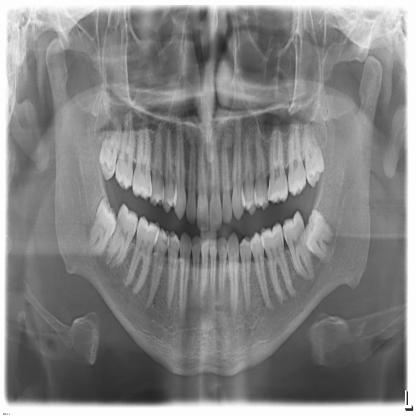canine: (232, 120, 247, 219), (174, 119, 187, 222), (227, 232, 239, 317), (179, 231, 191, 315)
cental incisor: (210, 138, 223, 229), (201, 234, 210, 306), (209, 234, 217, 298)
lareral incisor: (220, 137, 233, 223), (197, 142, 209, 231), (187, 136, 196, 221), (190, 238, 201, 304), (218, 237, 227, 303)
mandible: (44, 36, 383, 380)
maxilla: (93, 101, 327, 228)
molar: (124, 216, 159, 296), (261, 225, 296, 303), (107, 203, 138, 271), (283, 212, 313, 279), (304, 209, 335, 263), (89, 199, 117, 257), (267, 128, 287, 205), (115, 114, 134, 191), (288, 124, 307, 196), (303, 127, 325, 187), (100, 118, 121, 180), (133, 127, 151, 199)
premolar: (144, 228, 170, 312), (250, 231, 273, 308), (162, 129, 177, 214), (255, 127, 270, 210), (242, 135, 257, 216), (149, 129, 164, 207), (167, 231, 181, 313), (239, 237, 253, 317)
